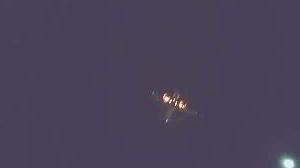Plane: (141, 80, 209, 127)
